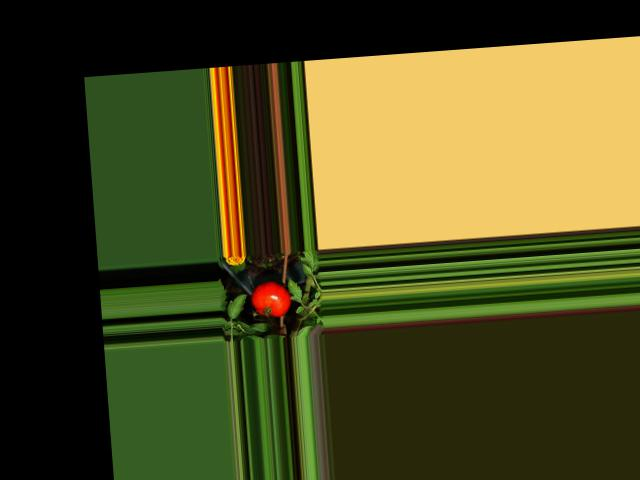tomato: (249, 280, 293, 318)
